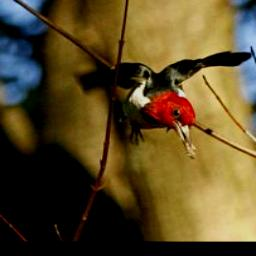Woodpecker: (77, 41, 256, 161)
